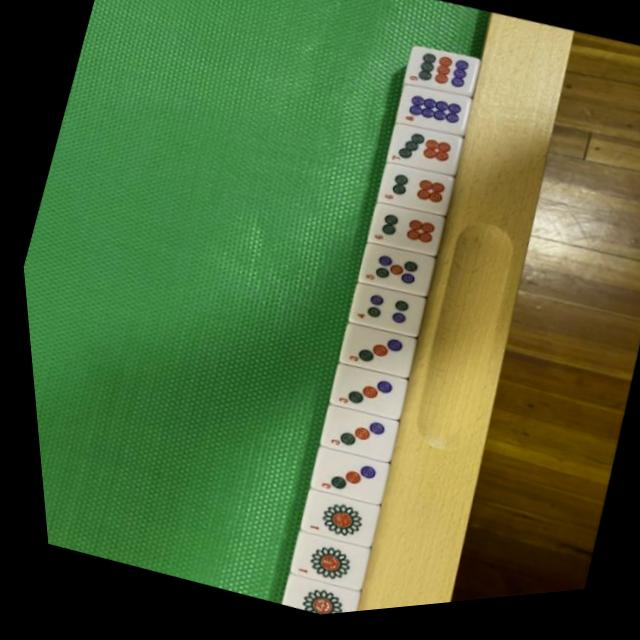sd1: (276, 522, 368, 601), (287, 482, 379, 559), (268, 566, 355, 623)
sd3: (299, 440, 392, 518), (309, 399, 401, 475), (321, 358, 412, 434), (332, 318, 421, 393)
sd4: (343, 278, 431, 352)
sd5: (354, 238, 441, 312)
sd6: (365, 199, 452, 271), (377, 159, 462, 231)
sd7: (388, 121, 472, 192)
sd8: (398, 83, 481, 152)
sd9: (410, 44, 493, 113)
